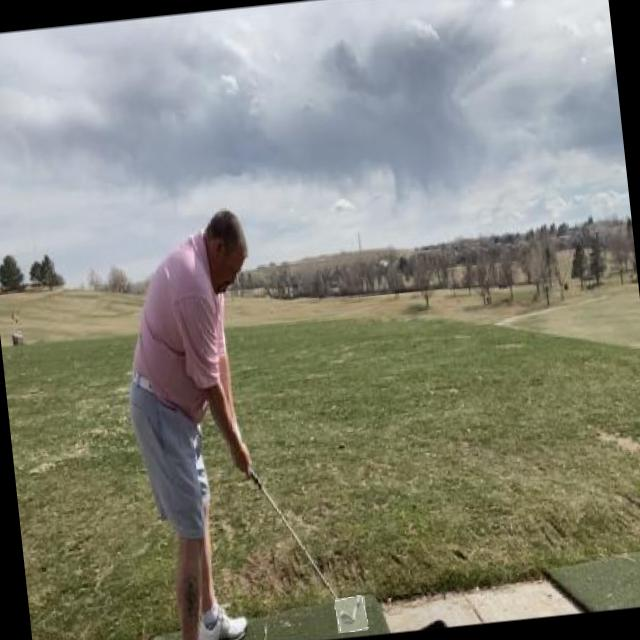club head: (334, 595, 368, 633)
